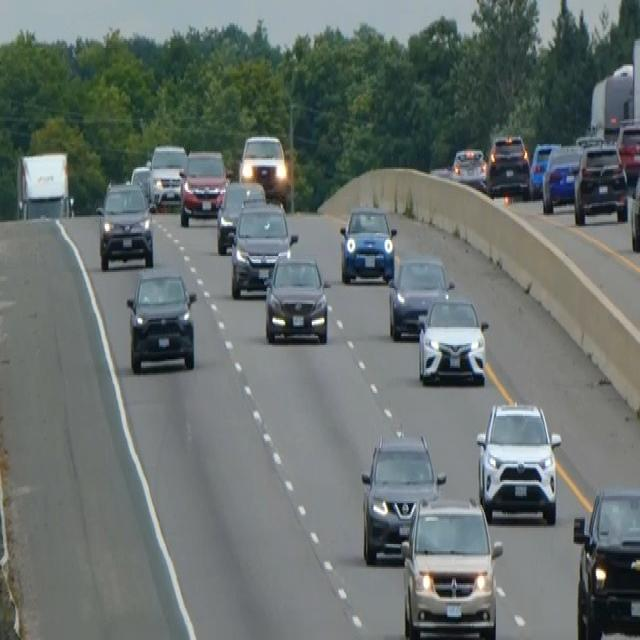car: (360, 432, 446, 564), (475, 398, 561, 524), (572, 484, 639, 638), (125, 265, 197, 373), (229, 199, 298, 299), (417, 293, 489, 386), (263, 249, 329, 345), (387, 252, 453, 340), (95, 180, 154, 270), (573, 140, 628, 226), (338, 202, 396, 282), (215, 178, 266, 254), (178, 147, 227, 225), (238, 132, 289, 202), (541, 142, 583, 214), (487, 132, 530, 198), (148, 142, 187, 208), (529, 139, 560, 197), (450, 144, 487, 190), (615, 116, 639, 183), (129, 163, 152, 204), (628, 169, 639, 252)
lorry: (15, 150, 71, 220)
minivan: (398, 492, 504, 638)
